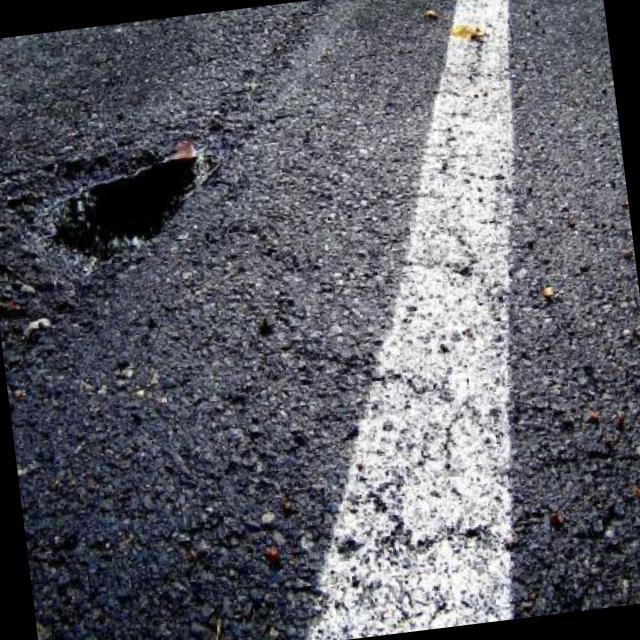pothole: (0, 126, 235, 298)
